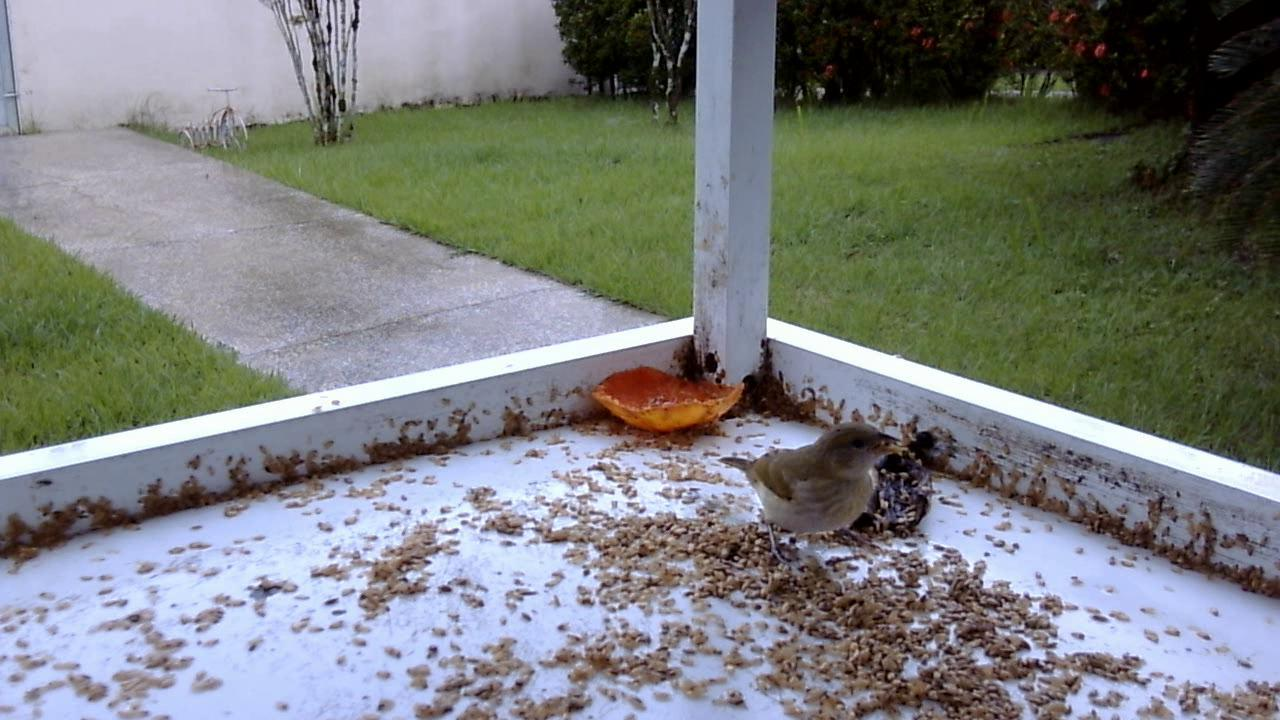canario_do_amazonas: (715, 422, 915, 573)
